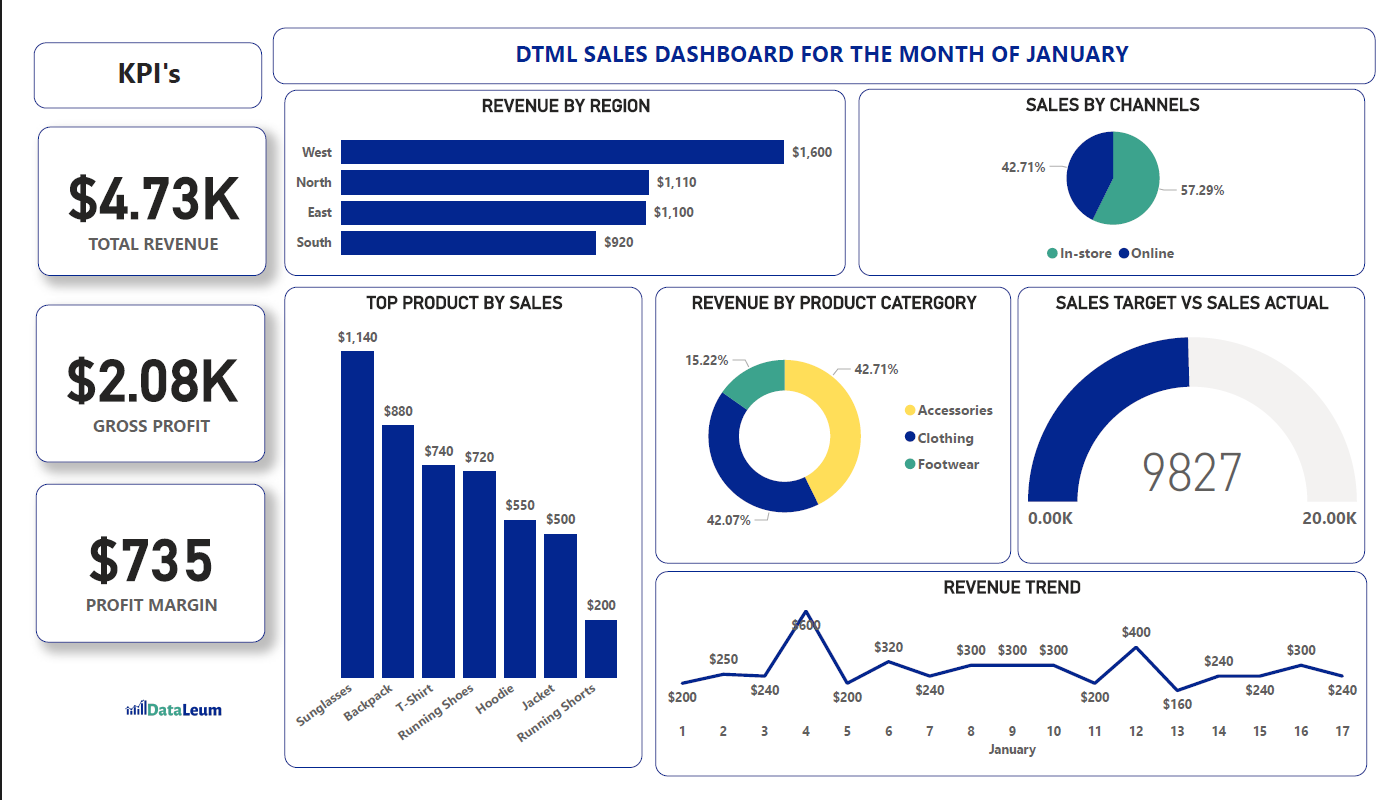

The page's visual inventory and layout, read from the dashboard file:
{"tool":"powerbi","page":{"name":"Page 1","canvas":[1280,720],"ordinal":0},"visuals":[{"type":"lineChart","title":"REVENUE TREND ","fields":{"Category":["Table2.Date.Variation.Date Hierarchy.Month","Table2.Date.Variation.Date Hierarchy.Day"],"Y":["Sum(Table2.Revenue)"]},"box":[595.8,519.8,676.6,195.4],"z":0},{"type":"card","fields":{"Values":["Sum(Table2.Revenue)"]},"box":[9.7,97.7,217.2,142.4],"z":1000},{"type":"pieChart","title":"SALES BY CHANNELS","fields":{"Y":["Sum(Table2.Revenue)"],"Series":["Table2.Sales Channel"]},"box":[789,61.5,481.4,178.6],"z":2000},{"type":"columnChart","title":"TOP PRODUCT BY SALES","fields":{"Category":["Table2.Product"],"Y":["Sum(Table2.Revenue)"]},"box":[243.7,249.7,340.2,457.2],"z":3000},{"type":"donutChart","title":"REVENUE BY PRODUCT CATERGORY","fields":{"Category":["Table2.Product Category"],"Y":["Sum(Table2.Revenue)"]},"box":[596,249.7,337.8,263],"z":4000},{"type":"card","fields":{"Values":["Sum(Table2.Gross Profit)"]},"box":[8.4,266.6,217.2,150.8],"z":5000},{"type":"textbox","box":[6,18.1,217.2,62.7],"z":6000},{"type":"textbox","box":[232.8,3.6,1047.2,54.3],"z":7000},{"type":"barChart","title":"REVENUE BY REGION","fields":{"Y":["Sum(Table2.Revenue)"],"Category":["Table2.Region"]},"box":[243.7,62.7,533.2,177.3],"z":8000},{"type":"gauge","title":"SALES TARGET VS SALES ACTUAL","fields":{"Y":["Sum(Table2.Sales Actual)"]},"box":[939.8,249.7,330.6,263],"z":9000},{"type":"image","box":[0,582.7,277.5,132.7],"z":10000},{"type":"card","fields":{"Values":["Table2.Total Profit Margin"]},"box":[8.4,436.7,217.2,150.8],"z":11000}]}

Visuals, with their boxes in screenshot pixels (x1, y1, x2, y2), scaled from the page's 1280x720 canvas onto the 1400x800 screenshot:
"REVENUE TREND " lineChart: bbox=(652, 578, 1392, 795)
card - Sum(Table2.Revenue): bbox=(11, 109, 248, 267)
"SALES BY CHANNELS" pieChart: bbox=(863, 68, 1390, 267)
"TOP PRODUCT BY SALES" columnChart: bbox=(267, 277, 639, 785)
"REVENUE BY PRODUCT CATERGORY" donutChart: bbox=(652, 277, 1021, 570)
card - Sum(Table2.Gross Profit): bbox=(9, 296, 247, 464)
textbox: bbox=(7, 20, 244, 90)
textbox: bbox=(255, 4, 1399, 64)
"REVENUE BY REGION" barChart: bbox=(267, 70, 850, 267)
"SALES TARGET VS SALES ACTUAL" gauge: bbox=(1028, 277, 1390, 570)
image: bbox=(0, 647, 304, 795)
card - Table2.Total Profit Margin: bbox=(9, 485, 247, 653)
